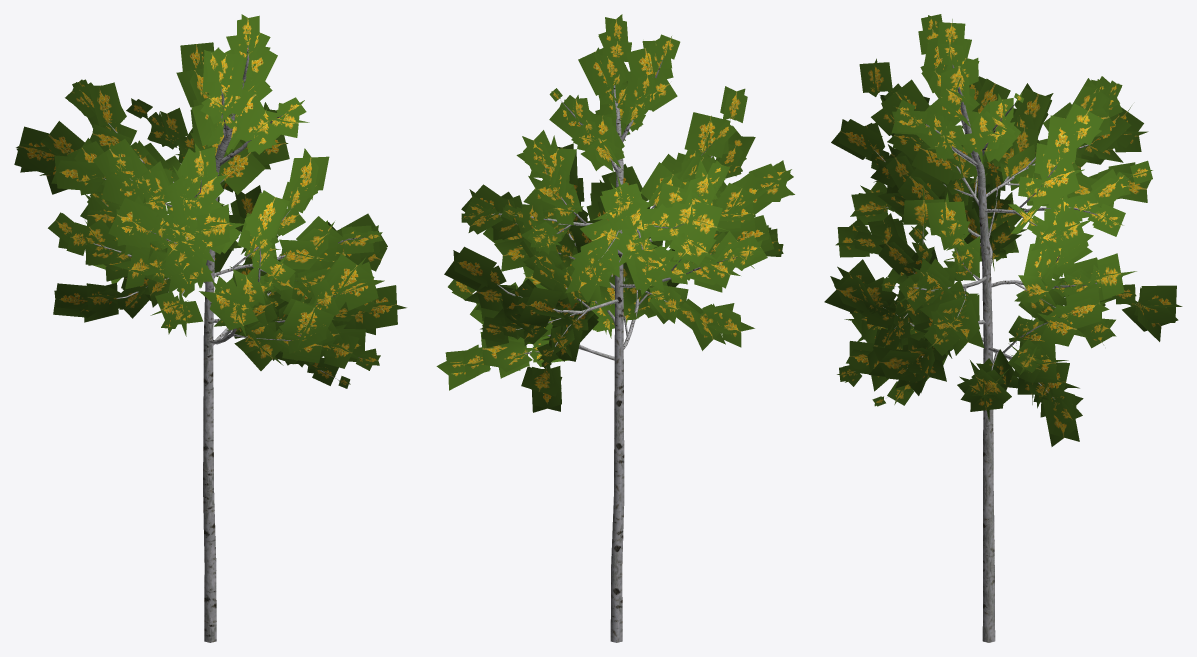
File: eztree-aspen.glb
The picture shows the model from 3 angles, left to right: view 1: azimuth 30°, elevation 25°; view 2: azimuth 150°, elevation 25°; view 3: azimuth 270°, elevation 25°; orthographic projection. The views are drawn at different scales.
Visible parts, largest first — view 1: LOD0; view 2: LOD0; view 3: LOD0.
Boxes of the visible parts, x1,y1,x2,y2 form: LOD0: (14, 14, 406, 642); LOD0: (436, 14, 794, 642); LOD0: (824, 14, 1182, 642).
Size of what is drawn, in the model's own units: 7.22 by 14 by 7.26.
Materials: 2 (2 with a texture image).
